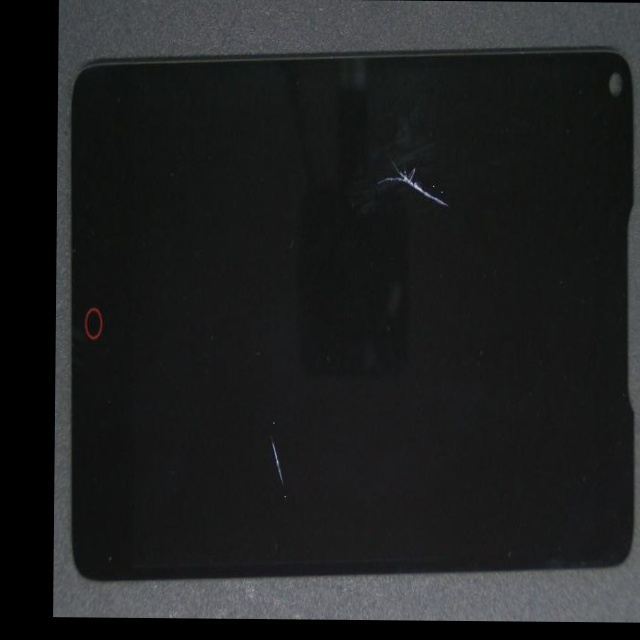scratch: (180, 226, 391, 620), (264, 70, 580, 234)
